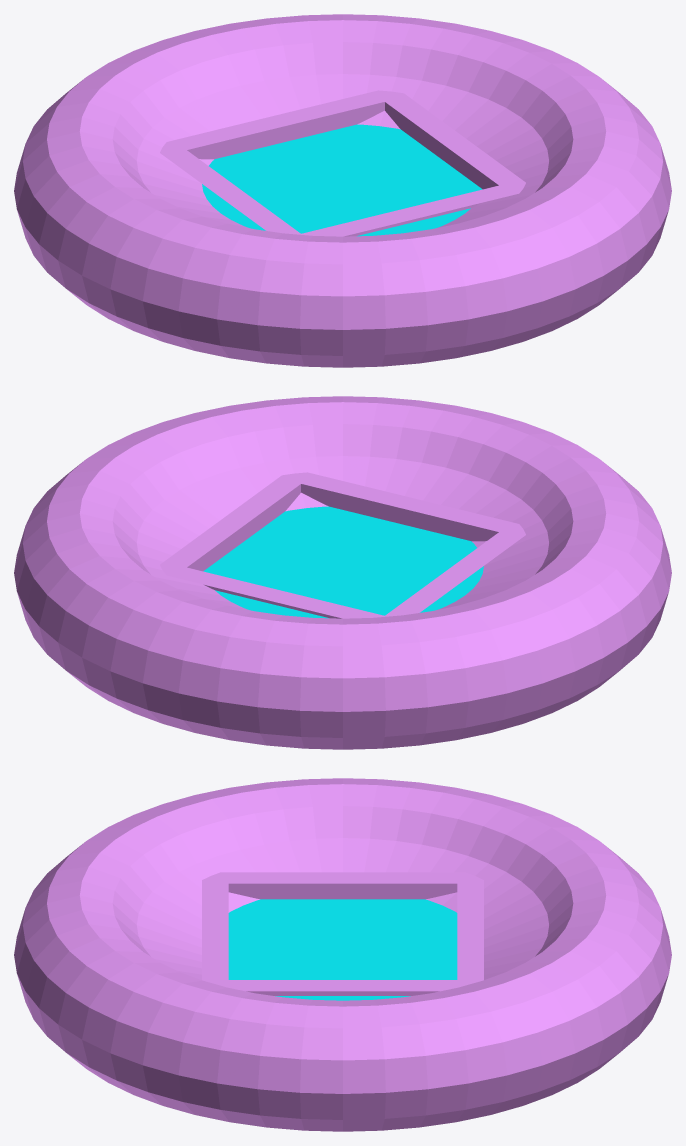
File: pil.glb
3 views of the same model, one above another, from view 1: azimuth 30°, elevation 25°; view 2: azimuth 150°, elevation 25°; view 3: azimuth 270°, elevation 25° (orthographic).
Parts seen in each view (by area): view 1: Plane, Cylinder; view 2: Plane, Cylinder; view 3: Plane, Cylinder.
Boxes of the visible parts, left/top/right/bottom form: Plane: left=14, top=14, right=671, bottom=367; Cylinder: left=202, top=124, right=482, bottom=236; Plane: left=14, top=396, right=671, bottom=749; Cylinder: left=203, top=506, right=483, bottom=618; Plane: left=14, top=778, right=671, bottom=1131; Cylinder: left=228, top=899, right=457, bottom=1000.
Size of the model in its own units: 0.0612 by 0.0122 by 0.0612.
